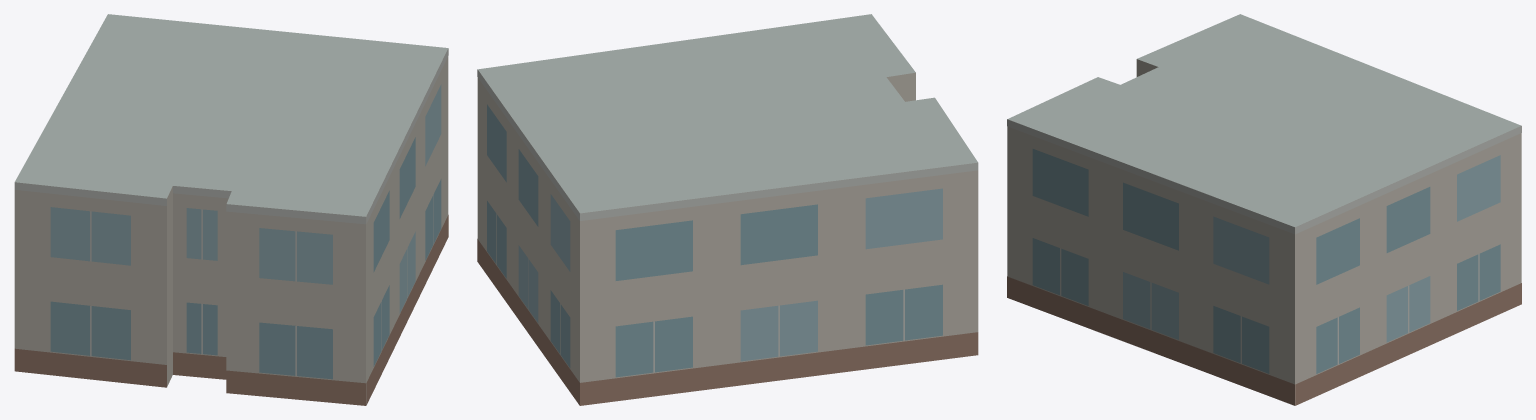
File: survey-upis-32991476.glb
The picture shows the model from 3 angles, left to right: view 1: azimuth 30°, elevation 25°; view 2: azimuth 150°, elevation 25°; view 3: azimuth 270°, elevation 25°; orthographic projection. The views are drawn at different scales.
Visible parts, largest first — view 1: survey-upis-32991476.tmp; view 2: survey-upis-32991476.tmp; view 3: survey-upis-32991476.tmp.
Part boxes in pixels (bbox=[...]): survey-upis-32991476.tmp: bbox=[14, 14, 448, 405]; survey-upis-32991476.tmp: bbox=[477, 14, 978, 405]; survey-upis-32991476.tmp: bbox=[1007, 14, 1521, 405].
Size of the model in its own units: 15.64 by 6.1 by 15.94.
